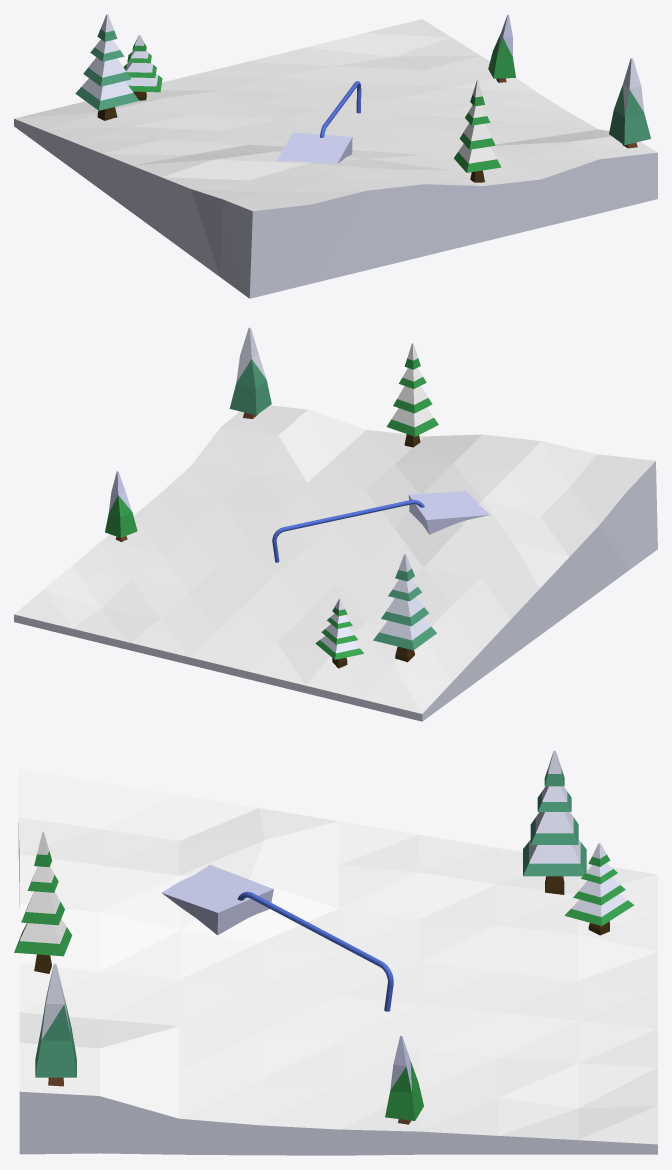
File: flatRail.glb
3 views of the same model, one above another, from view 1: azimuth 30°, elevation 25°; view 2: azimuth 150°, elevation 25°; view 3: azimuth 270°, elevation 25° (orthographic). The views are drawn at different scales.
Visible parts, largest first — view 1: snow, Cube.001, Cube.003, Cube, first, Cube.002, Cube.004, rail; view 2: snow, Cube.001, Cube.003, first, Cube, Cube.002, Cube.004, rail; view 3: snow, Cube.001, first, Cube.003, Cube, Cube.002, Cube.004, rail.
Part boxes in pixels (left/top/right/bottom): snow: left=14, top=19, right=657, bottom=298; Cube.001: left=75, top=14, right=139, bottom=120; Cube.003: left=454, top=80, right=501, bottom=182; Cube: left=609, top=58, right=650, bottom=148; first: left=276, top=132, right=352, bottom=163; Cube.002: left=123, top=35, right=162, bottom=100; Cube.004: left=488, top=14, right=515, bottom=82; rail: left=320, top=81, right=361, bottom=137; snow: left=14, top=405, right=657, bottom=721; Cube.001: left=373, top=554, right=436, bottom=662; Cube.003: left=386, top=343, right=438, bottom=447; first: left=408, top=491, right=490, bottom=534; Cube: left=229, top=327, right=271, bottom=418; Cube.002: left=315, top=598, right=363, bottom=668; Cube.004: left=105, top=471, right=137, bottom=541; rail: left=272, top=499, right=424, bottom=562; snow: left=18, top=768, right=657, bottom=1155; Cube.001: left=523, top=750, right=586, bottom=894; first: left=161, top=865, right=273, bottom=935; Cube.003: left=14, top=831, right=72, bottom=973; Cube: left=35, top=963, right=76, bottom=1086; Cube.002: left=564, top=843, right=634, bottom=935; Cube.004: left=385, top=1035, right=423, bottom=1124; rail: left=237, top=891, right=393, bottom=1011.
Size of the model in its own units: 12.69 by 4.61 by 12.81.
